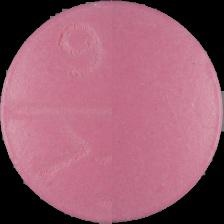10544-263: (0, 0, 224, 224)
